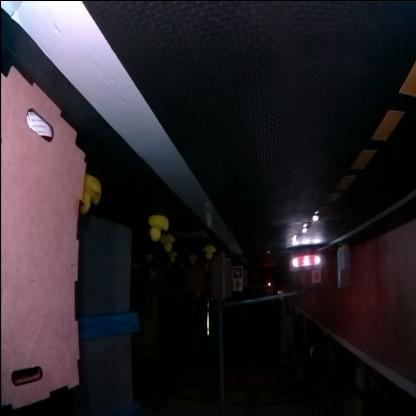Duckie: (80, 176, 101, 214), (151, 217, 168, 241), (162, 235, 174, 251), (204, 245, 215, 254), (170, 254, 178, 262), (189, 256, 196, 264), (146, 254, 152, 262)
Duckiebot: (288, 249, 320, 273)
Intersection sign: (234, 281, 242, 291)
QR code: (178, 231, 209, 238), (233, 266, 242, 278)
Traffic light: (278, 291, 283, 297), (266, 282, 270, 289)
